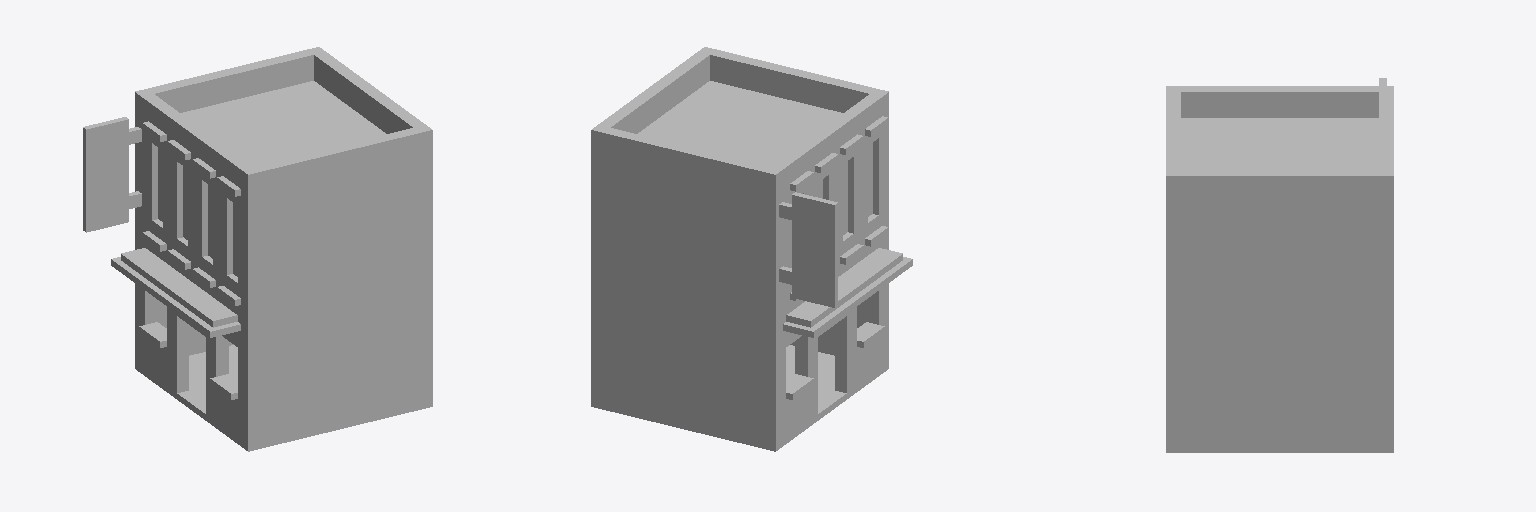
File: office.obj
The picture shows the model from 3 angles: view 1: azimuth 30°, elevation 25°; view 2: azimuth 150°, elevation 25°; view 3: azimuth 270°, elevation 25°; orthographic projection.
Visible parts, largest first — view 1: object 1; view 2: object 1; view 3: object 1.
Boxes of the visible parts, x1,y1,x2,y2 form: object 1: [83, 47, 432, 451]; object 1: [591, 47, 912, 451]; object 1: [1166, 78, 1393, 452].
Size of the model in its own units: 3.9 by 4.3 by 3.2.